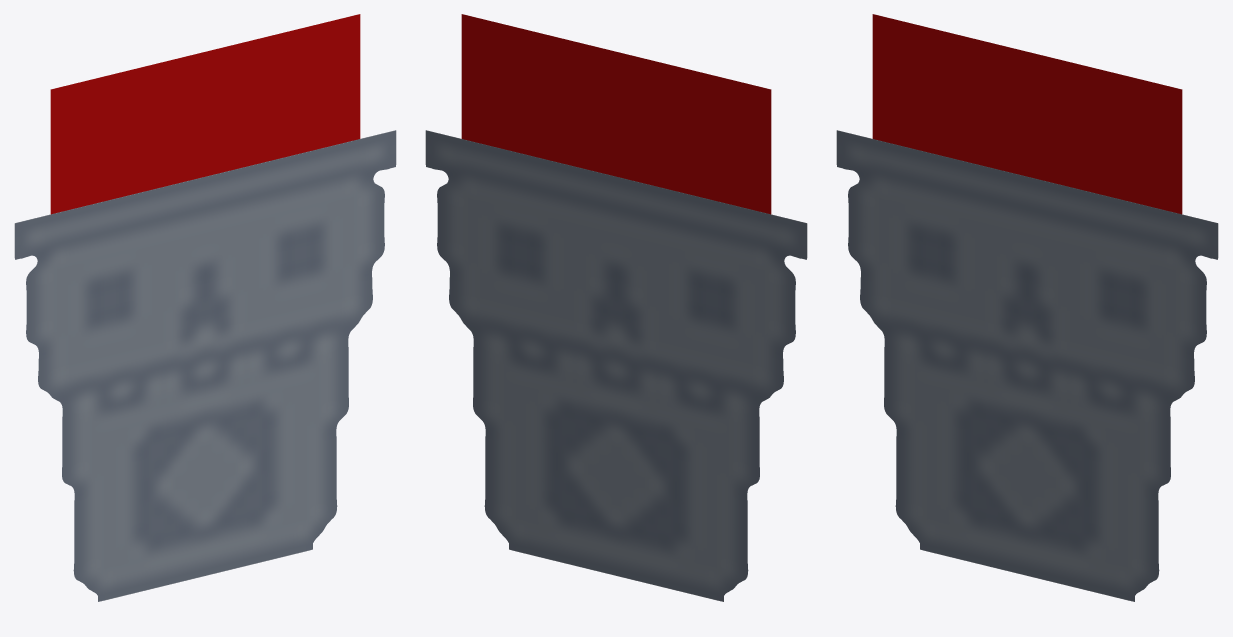
File: MeantimeButto_up.fbx
3 renders of one model, left to right at view 1: azimuth 30°, elevation 25°; view 2: azimuth 150°, elevation 25°; view 3: azimuth 330°, elevation 25°, orthographic.
Parts seen in each view (by area): view 1: polySurface3; view 2: polySurface3; view 3: polySurface3.
Part boxes in pixels (x1,y1,x2,y2): polySurface3: (14, 14, 396, 601); polySurface3: (425, 14, 807, 601); polySurface3: (836, 14, 1218, 601).
Bounding box in the file's own units: 1 × 1.31 × 1.22e-16.
2 materials, 1 textured.
